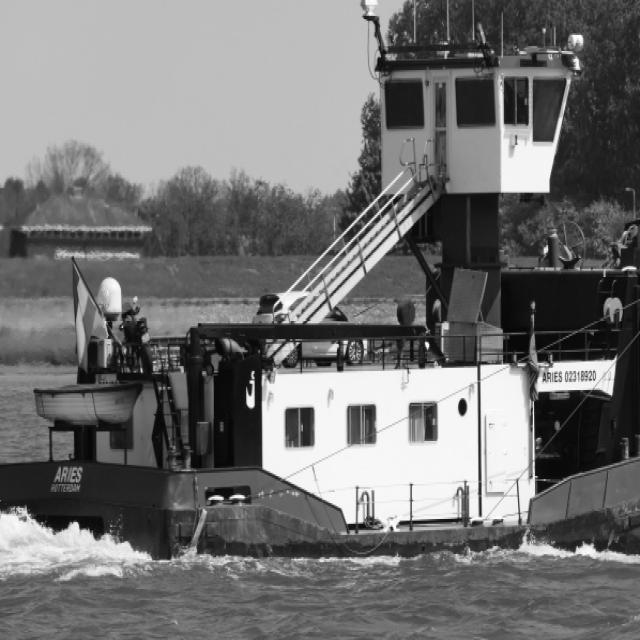tugboat: (1, 1, 640, 577)
